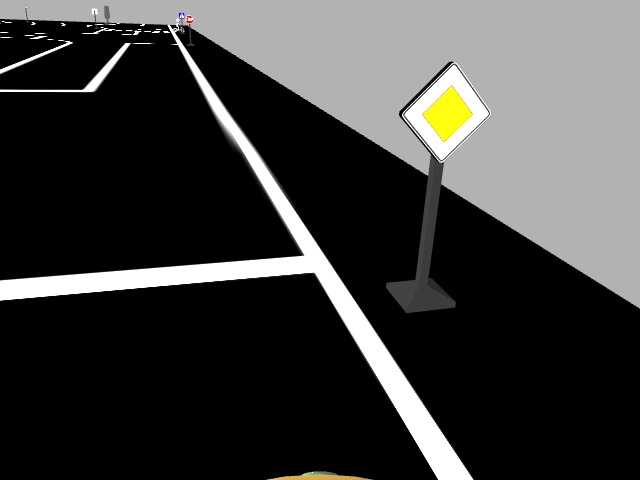Priority: (399, 60, 492, 163)
